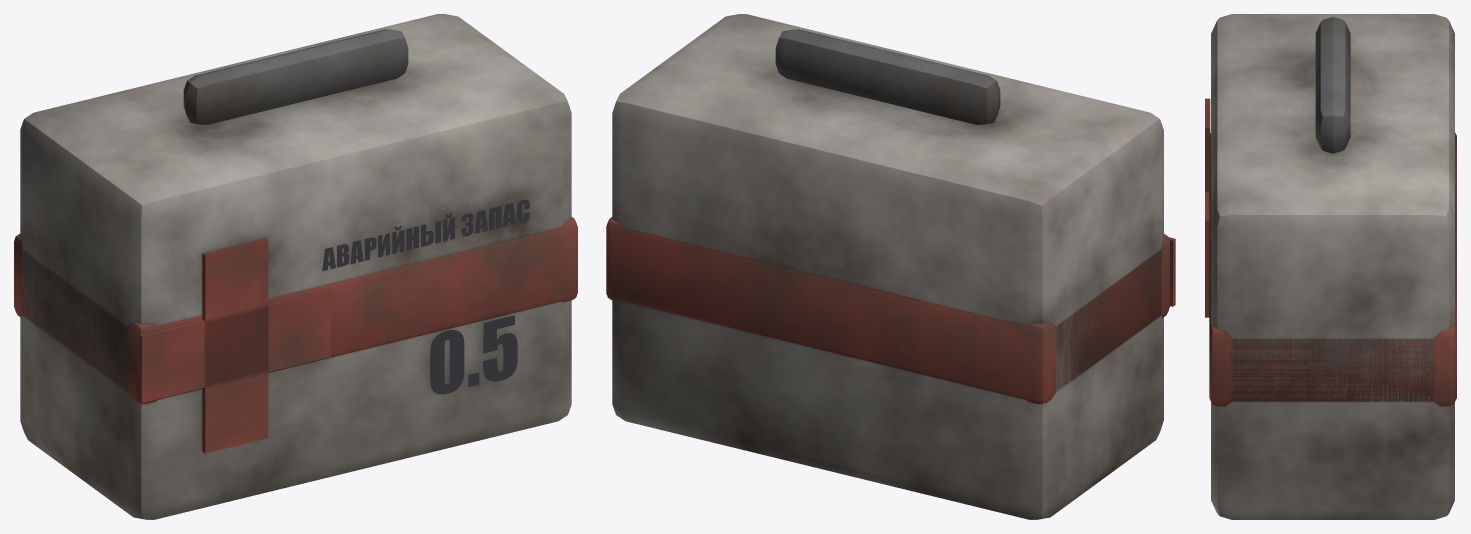
File: g67_pz_emergency_pack.glb
The picture shows the model from 3 angles, left to right: view 1: azimuth 30°, elevation 25°; view 2: azimuth 150°, elevation 25°; view 3: azimuth 270°, elevation 25°; orthographic projection. The views are drawn at different scales.
Parts seen in each view (by area): view 1: g67_pz_emergency_pack; view 2: g67_pz_emergency_pack; view 3: g67_pz_emergency_pack.
Part boxes in pixels (x1,y1,x2,y2): g67_pz_emergency_pack: (14,14,577,519); g67_pz_emergency_pack: (606,14,1175,519); g67_pz_emergency_pack: (1205,14,1456,519).
Size of the model in its own units: 0.28 by 0.23 by 0.145.
1 material, 1 textured.
